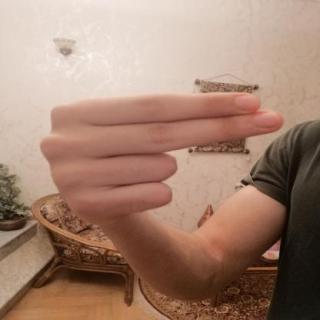AYN: (31, 78, 299, 231)
